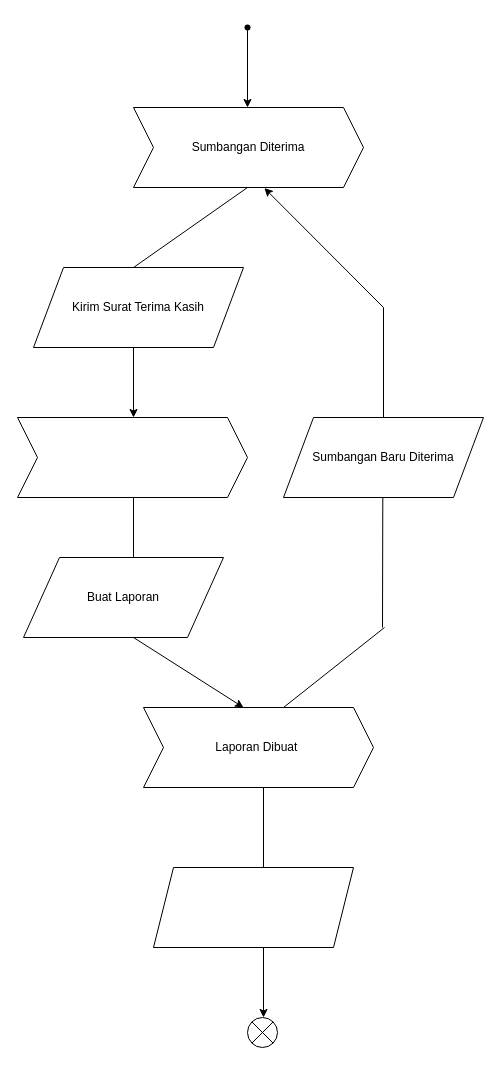
This 501x1065 diagram has some shape labels left out. Each missing label, with the box of its shape:
Kirim Laporan ke Dekan: (152, 866, 354, 948)
Surat Dikirim: (16, 416, 248, 498)
